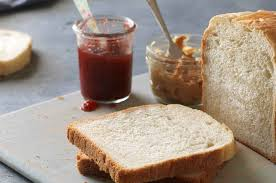can: (73, 12, 138, 106)
